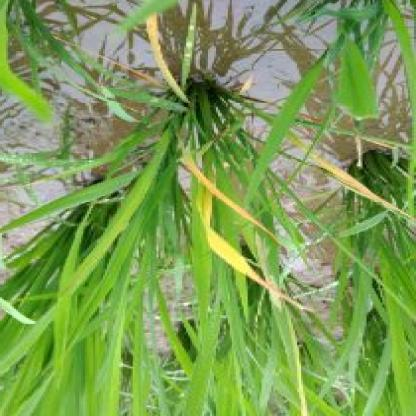Tungro: (194, 173, 288, 313)
